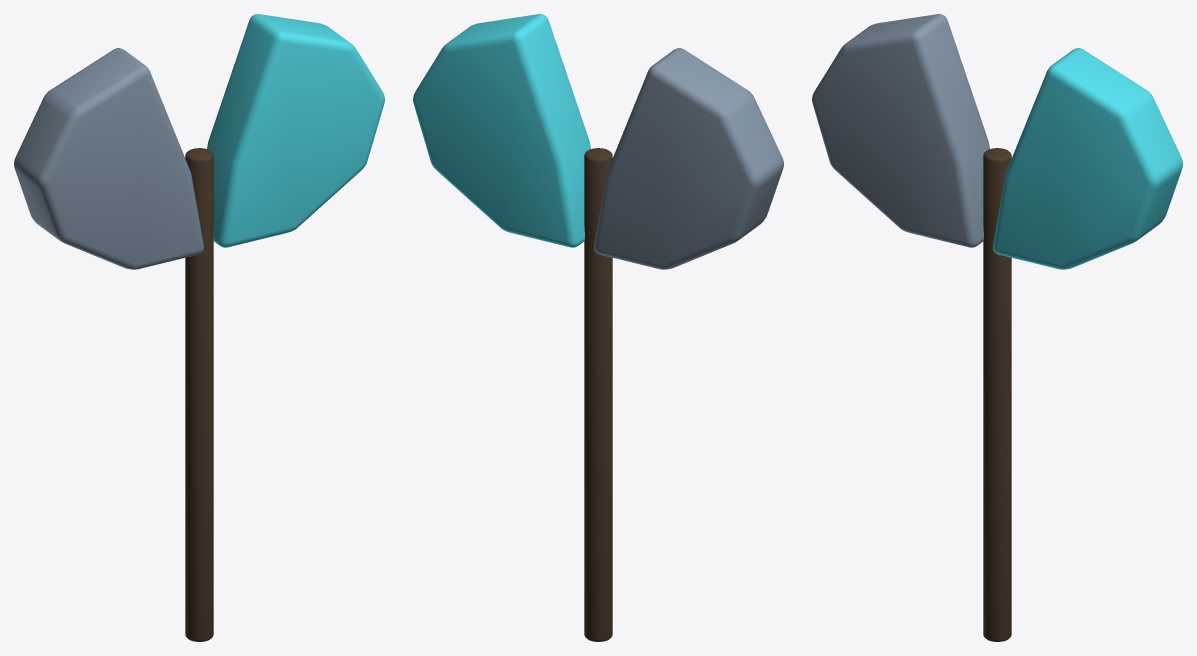
The model's file is axe_v5.glb.
3 views of the same model, side by side, from view 1: azimuth 30°, elevation 25°; view 2: azimuth 150°, elevation 25°; view 3: azimuth 330°, elevation 25° (orthographic).
Parts seen in each view (by area): view 1: CRESCENT_REVERSE_HEAD_ACCENT, CRESCENT_AXE_HEAD_PRIMARY, AXE_HANDLE_SECONDARY; view 2: CRESCENT_REVERSE_HEAD_ACCENT, CRESCENT_AXE_HEAD_PRIMARY, AXE_HANDLE_SECONDARY; view 3: CRESCENT_AXE_HEAD_PRIMARY, CRESCENT_REVERSE_HEAD_ACCENT, AXE_HANDLE_SECONDARY.
Part boxes in pixels (<box>): CRESCENT_REVERSE_HEAD_ACCENT: <box>207,14,384,247</box>; CRESCENT_AXE_HEAD_PRIMARY: <box>14,48,203,269</box>; AXE_HANDLE_SECONDARY: <box>185,148,213,641</box>; CRESCENT_REVERSE_HEAD_ACCENT: <box>413,14,590,247</box>; CRESCENT_AXE_HEAD_PRIMARY: <box>594,48,783,269</box>; AXE_HANDLE_SECONDARY: <box>584,148,612,641</box>; CRESCENT_AXE_HEAD_PRIMARY: <box>812,14,989,247</box>; CRESCENT_REVERSE_HEAD_ACCENT: <box>993,48,1182,269</box>; AXE_HANDLE_SECONDARY: <box>983,148,1011,641</box>.
Size of the model in its own units: 2.66 by 4.38 by 0.42.
